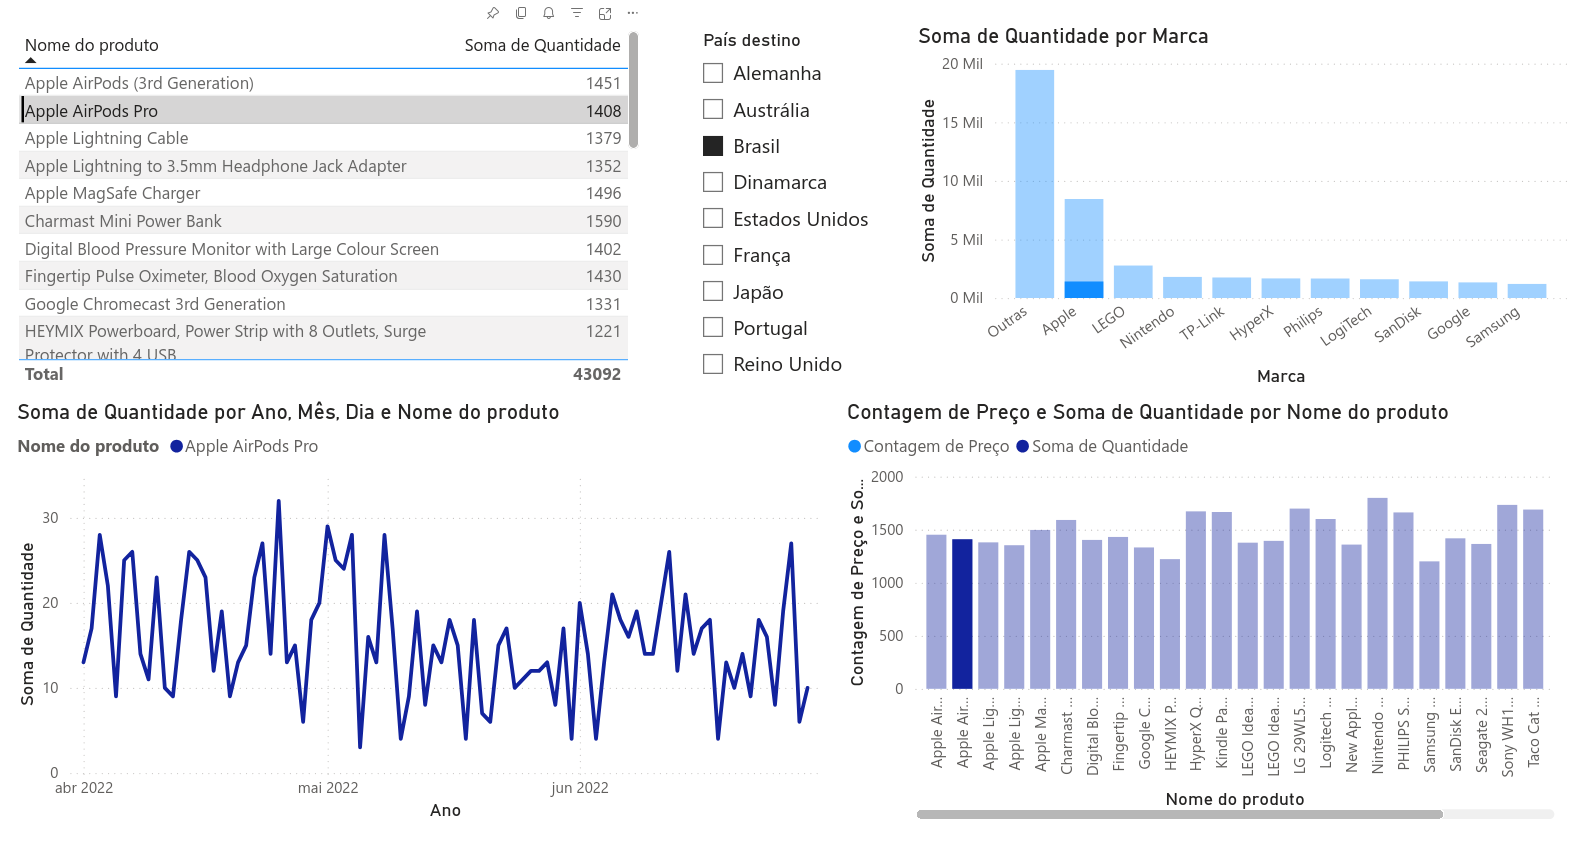

What the dashboard file says about the page in this screenshot:
{"tool":"powerbi","page":{"name":"Página 1","canvas":[1280,720],"ordinal":0},"visuals":[{"type":"tableEx","fields":{"Values":["produtos.Nome do produto","Sum(vendas.Quantidade)"]},"box":[22.8,30.8,506.4,292.9],"z":0},{"type":"columnChart","fields":{"Category":["produtos.Marca"],"Y":["Sum(vendas.Quantidade)"]},"box":[741.8,30.8,527.3,292.9],"z":1000},{"type":"lineChart","fields":{"Series":["produtos.Nome do produto"],"Y":["Sum(vendas.Quantidade)"],"Category":["vendas.Data.Variação.Hierarquia de datas.Ano","vendas.Data.Variação.Hierarquia de datas.Mês","vendas.Data.Variação.Hierarquia de datas.Dia"]},"box":[22.8,330.7,663.3,338.6],"z":2000},{"type":"columnChart","fields":{"Category":["produtos.Nome do produto"],"Y":["CountNonNull(produtos.Preço)","Sum(vendas.Quantidade)"]},"box":[685.2,330.7,574,338.6],"z":3000},{"type":"slicer","fields":{"Values":["vendas.País destino"]},"box":[562,30.8,155.9,292.9],"z":4000}]}

Visuals, with their boxes in screenshot pixels (x1, y1, x2, y2):
tableEx - produtos.Nome do produto x Sum(vendas.Quantidade): 157/64/744/404
columnChart - produtos.Marca x Sum(vendas.Quantidade): 990/64/1568/404
lineChart - produtos.Nome do produto x Sum(vendas.Quantidade): 157/412/926/804
columnChart - produtos.Nome do produto x CountNonNull(produtos.Preço): 925/412/1568/804
slicer - vendas.País destino: 782/64/962/404
